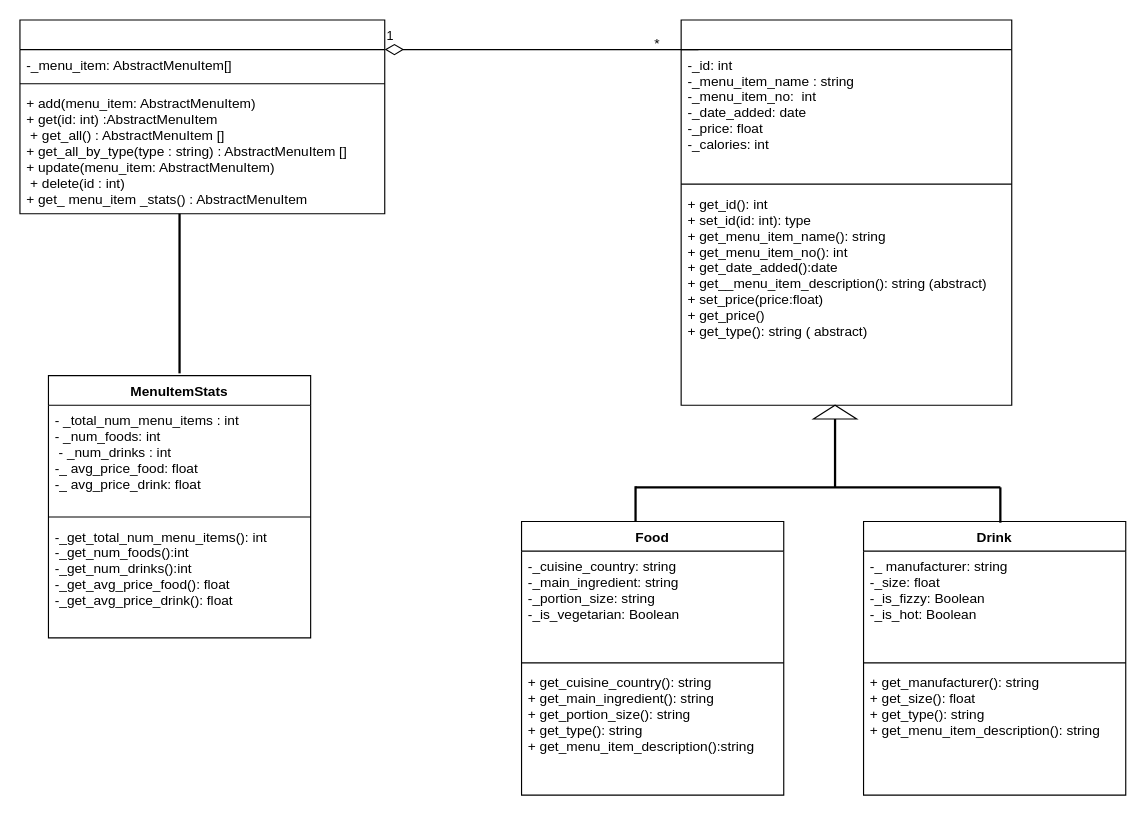
This 1146x819 diagram has some shape labels left out. The box of each missing label's shape, as (x1, y1, x2, y2) in pixels:
AbstractMenuItem: (680, 19, 1012, 405)
MenuItemManager: (19, 19, 385, 214)
